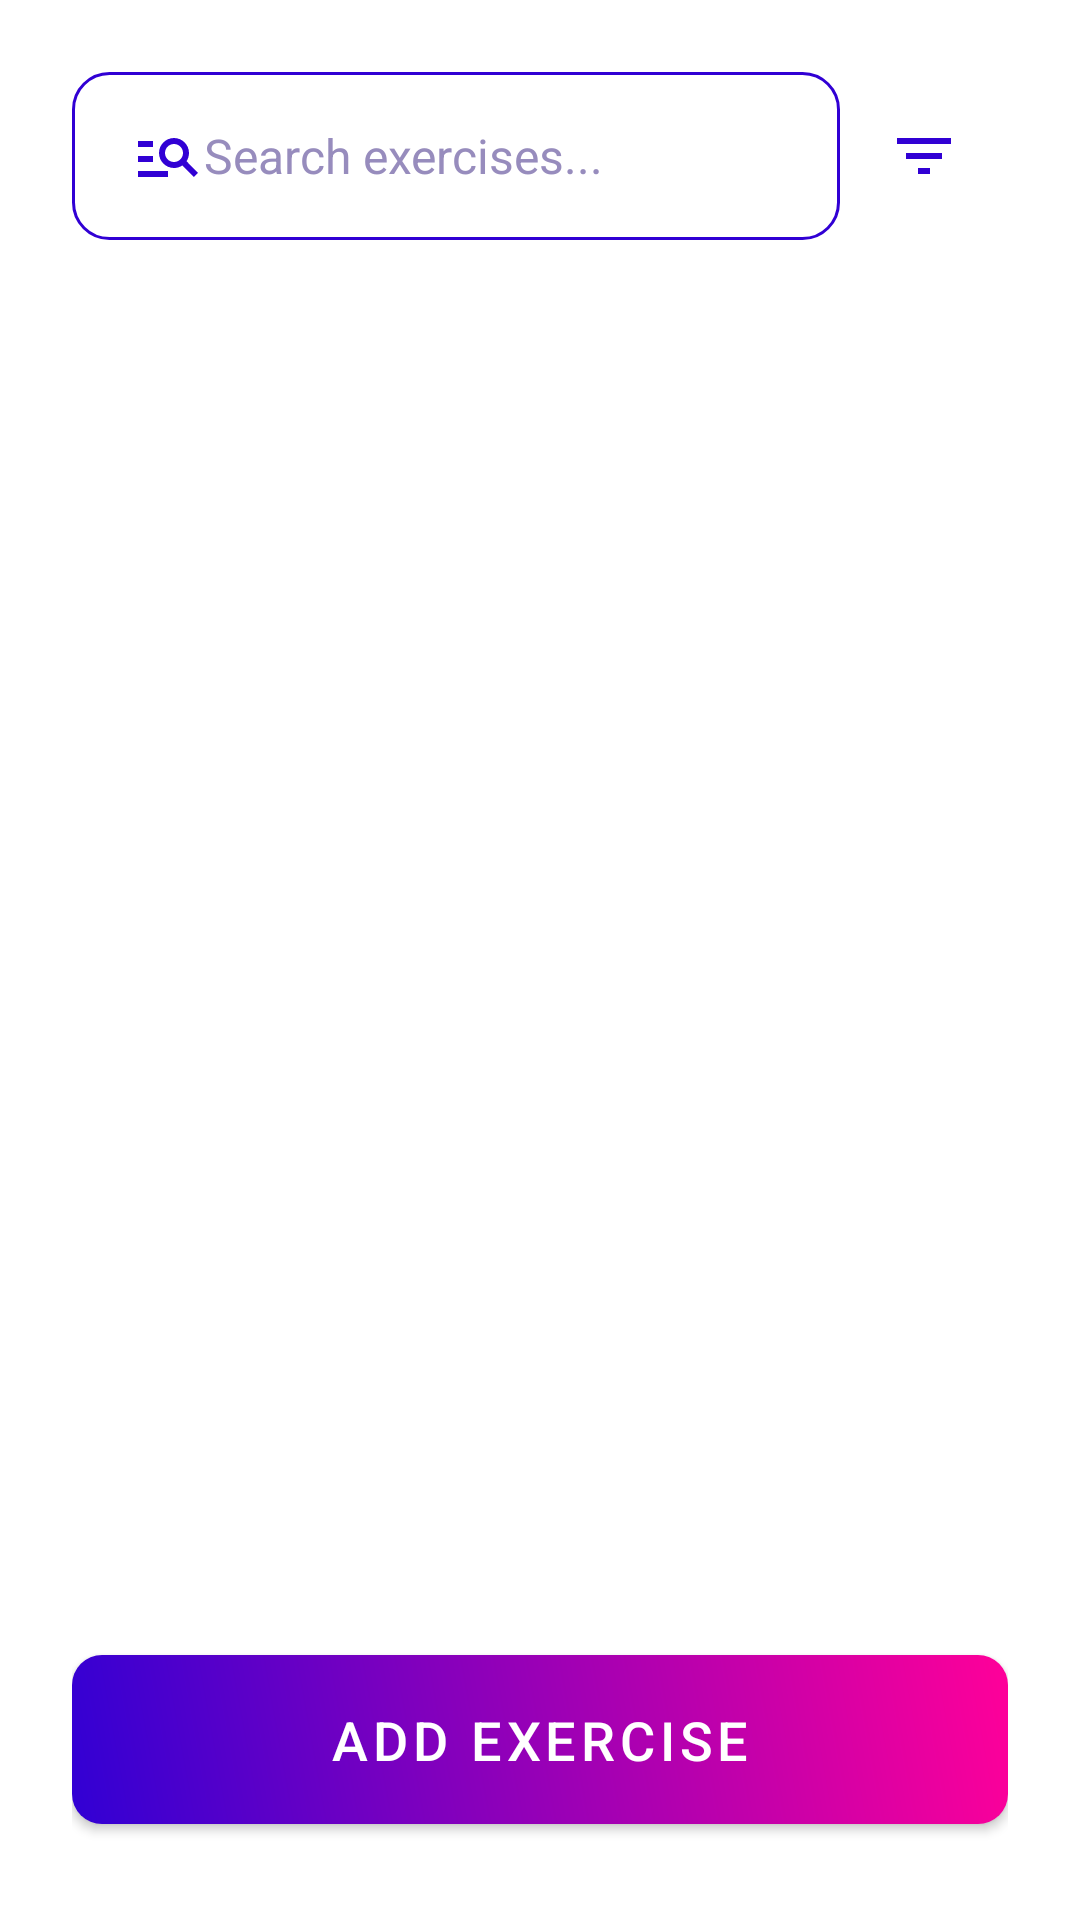

Locate icon controls on the screen. Image size 1080 × 1920, boxes as (x1, y1, x2, y2).
filter: (897, 138, 951, 174)
